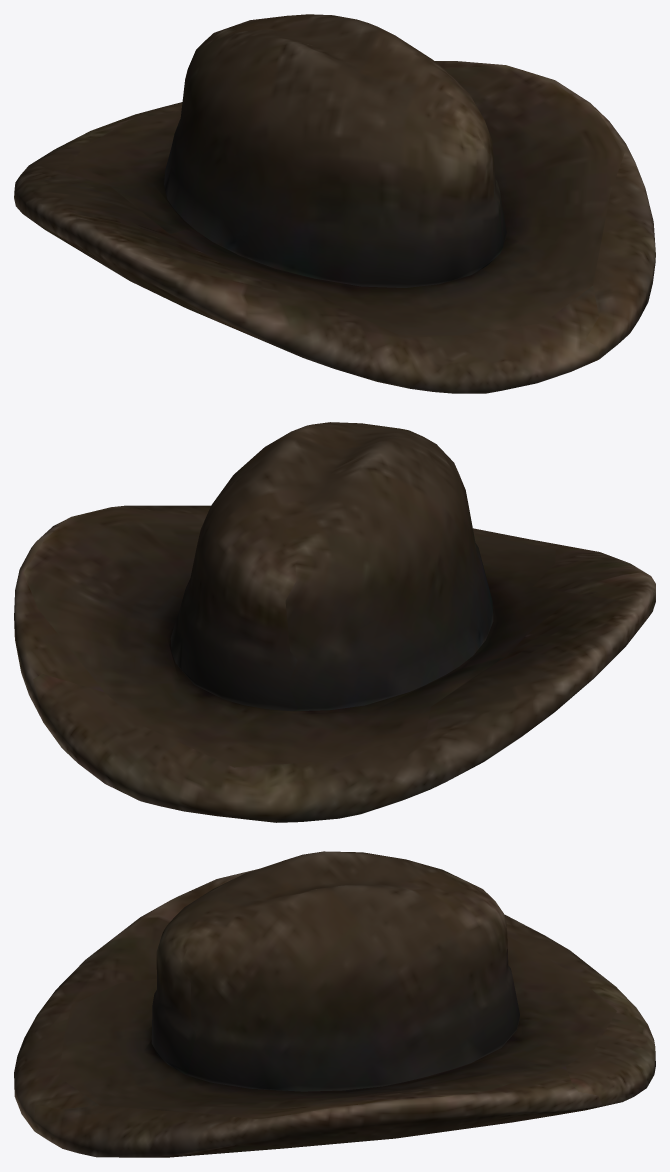
Rendered from Hat_Cowboy_1.glb.
The picture shows the model from 3 angles, top to bottom: view 1: azimuth 30°, elevation 25°; view 2: azimuth 150°, elevation 25°; view 3: azimuth 270°, elevation 25°; orthographic projection. The views are drawn at different scales.
Visible parts, largest first — view 1: Elf Female Crossbow Ranger.002; view 2: Elf Female Crossbow Ranger.002; view 3: Elf Female Crossbow Ranger.002.
Boxes of the visible parts, x1,y1,x2,y2 form: Elf Female Crossbow Ranger.002: (14, 14, 655, 393); Elf Female Crossbow Ranger.002: (14, 422, 655, 822); Elf Female Crossbow Ranger.002: (14, 851, 655, 1157).
Size of the model in its own units: 1.24 by 0.5272 by 1.4.
Materials: 1 (1 with a texture image).
